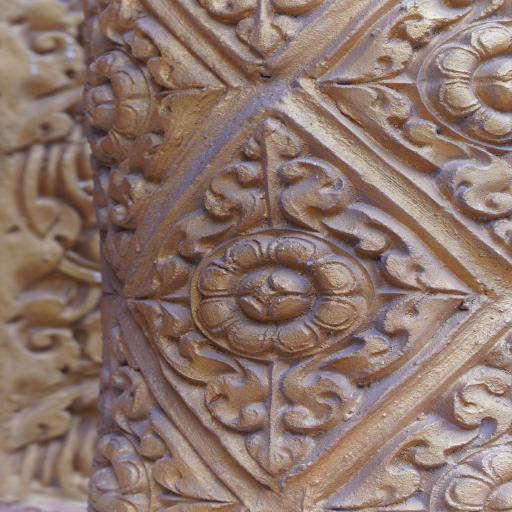hoa: (110, 107, 509, 491), (305, 0, 512, 275), (71, 0, 238, 233), (317, 324, 512, 512), (72, 340, 256, 512), (166, 0, 366, 81)
